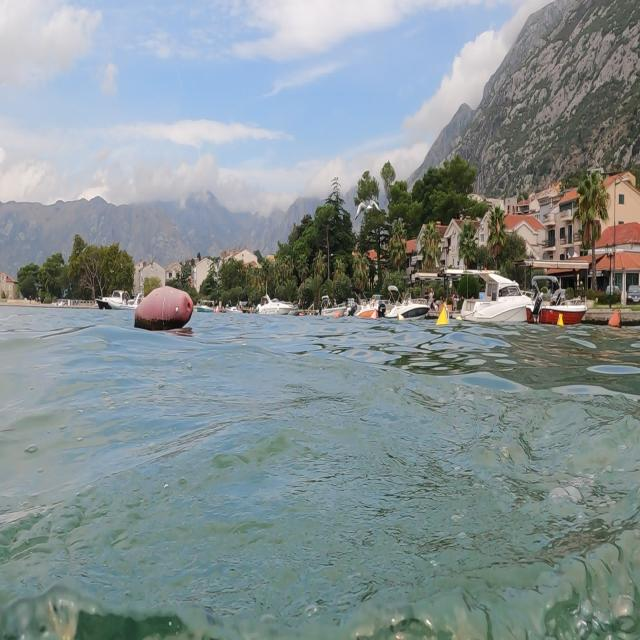boat: (459, 260, 538, 338), (518, 254, 594, 326), (378, 268, 432, 326), (319, 288, 391, 326), (95, 276, 141, 316), (254, 291, 300, 326)
buoy: (128, 281, 198, 342), (606, 302, 626, 338), (433, 301, 453, 335)
